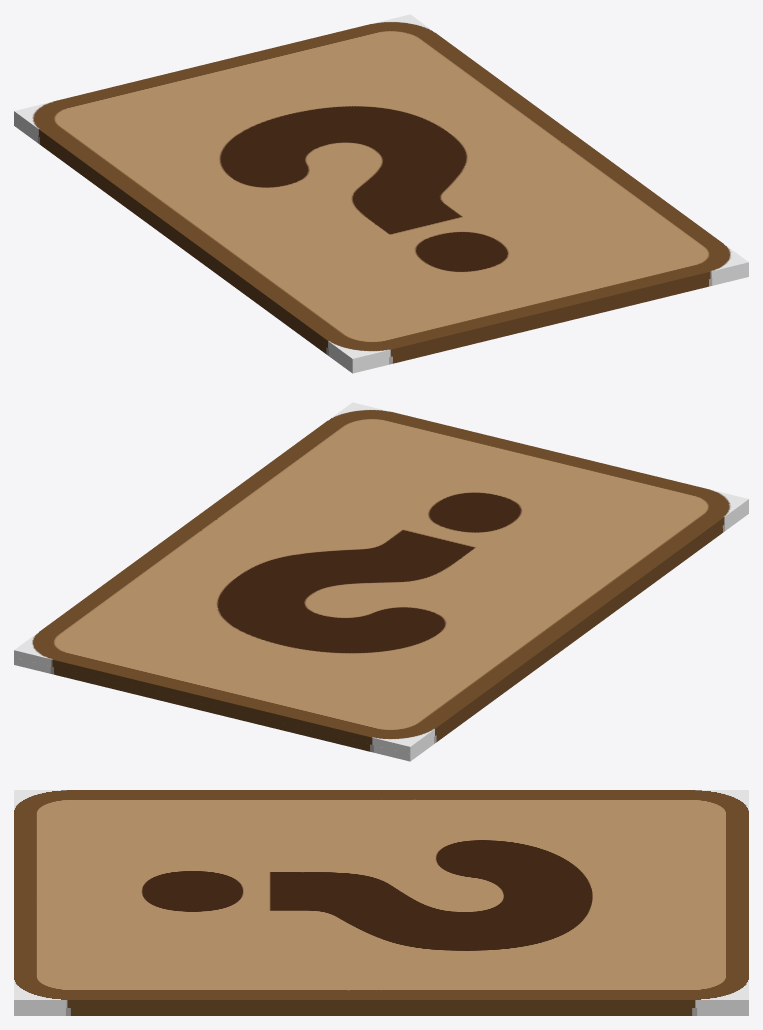
Rendered from QuestionCard.fbx.
The picture shows the model from 3 angles, top to bottom: view 1: azimuth 30°, elevation 25°; view 2: azimuth 150°, elevation 25°; view 3: azimuth 270°, elevation 25°; orthographic projection. The views are drawn at different scales.
Visible parts, largest first — view 1: Front, Back; view 2: Front, Back; view 3: Front, Back.
Part boxes in pixels (box(x1,y1,x2,y2)): Front: box(14, 14, 748, 366); Back: box(14, 118, 748, 373); Front: box(14, 402, 748, 754); Back: box(14, 506, 748, 761); Front: box(14, 790, 748, 1007); Back: box(14, 1008, 748, 1015).
Size of the model in its own units: 4.06 by 0.1436 by 6.
